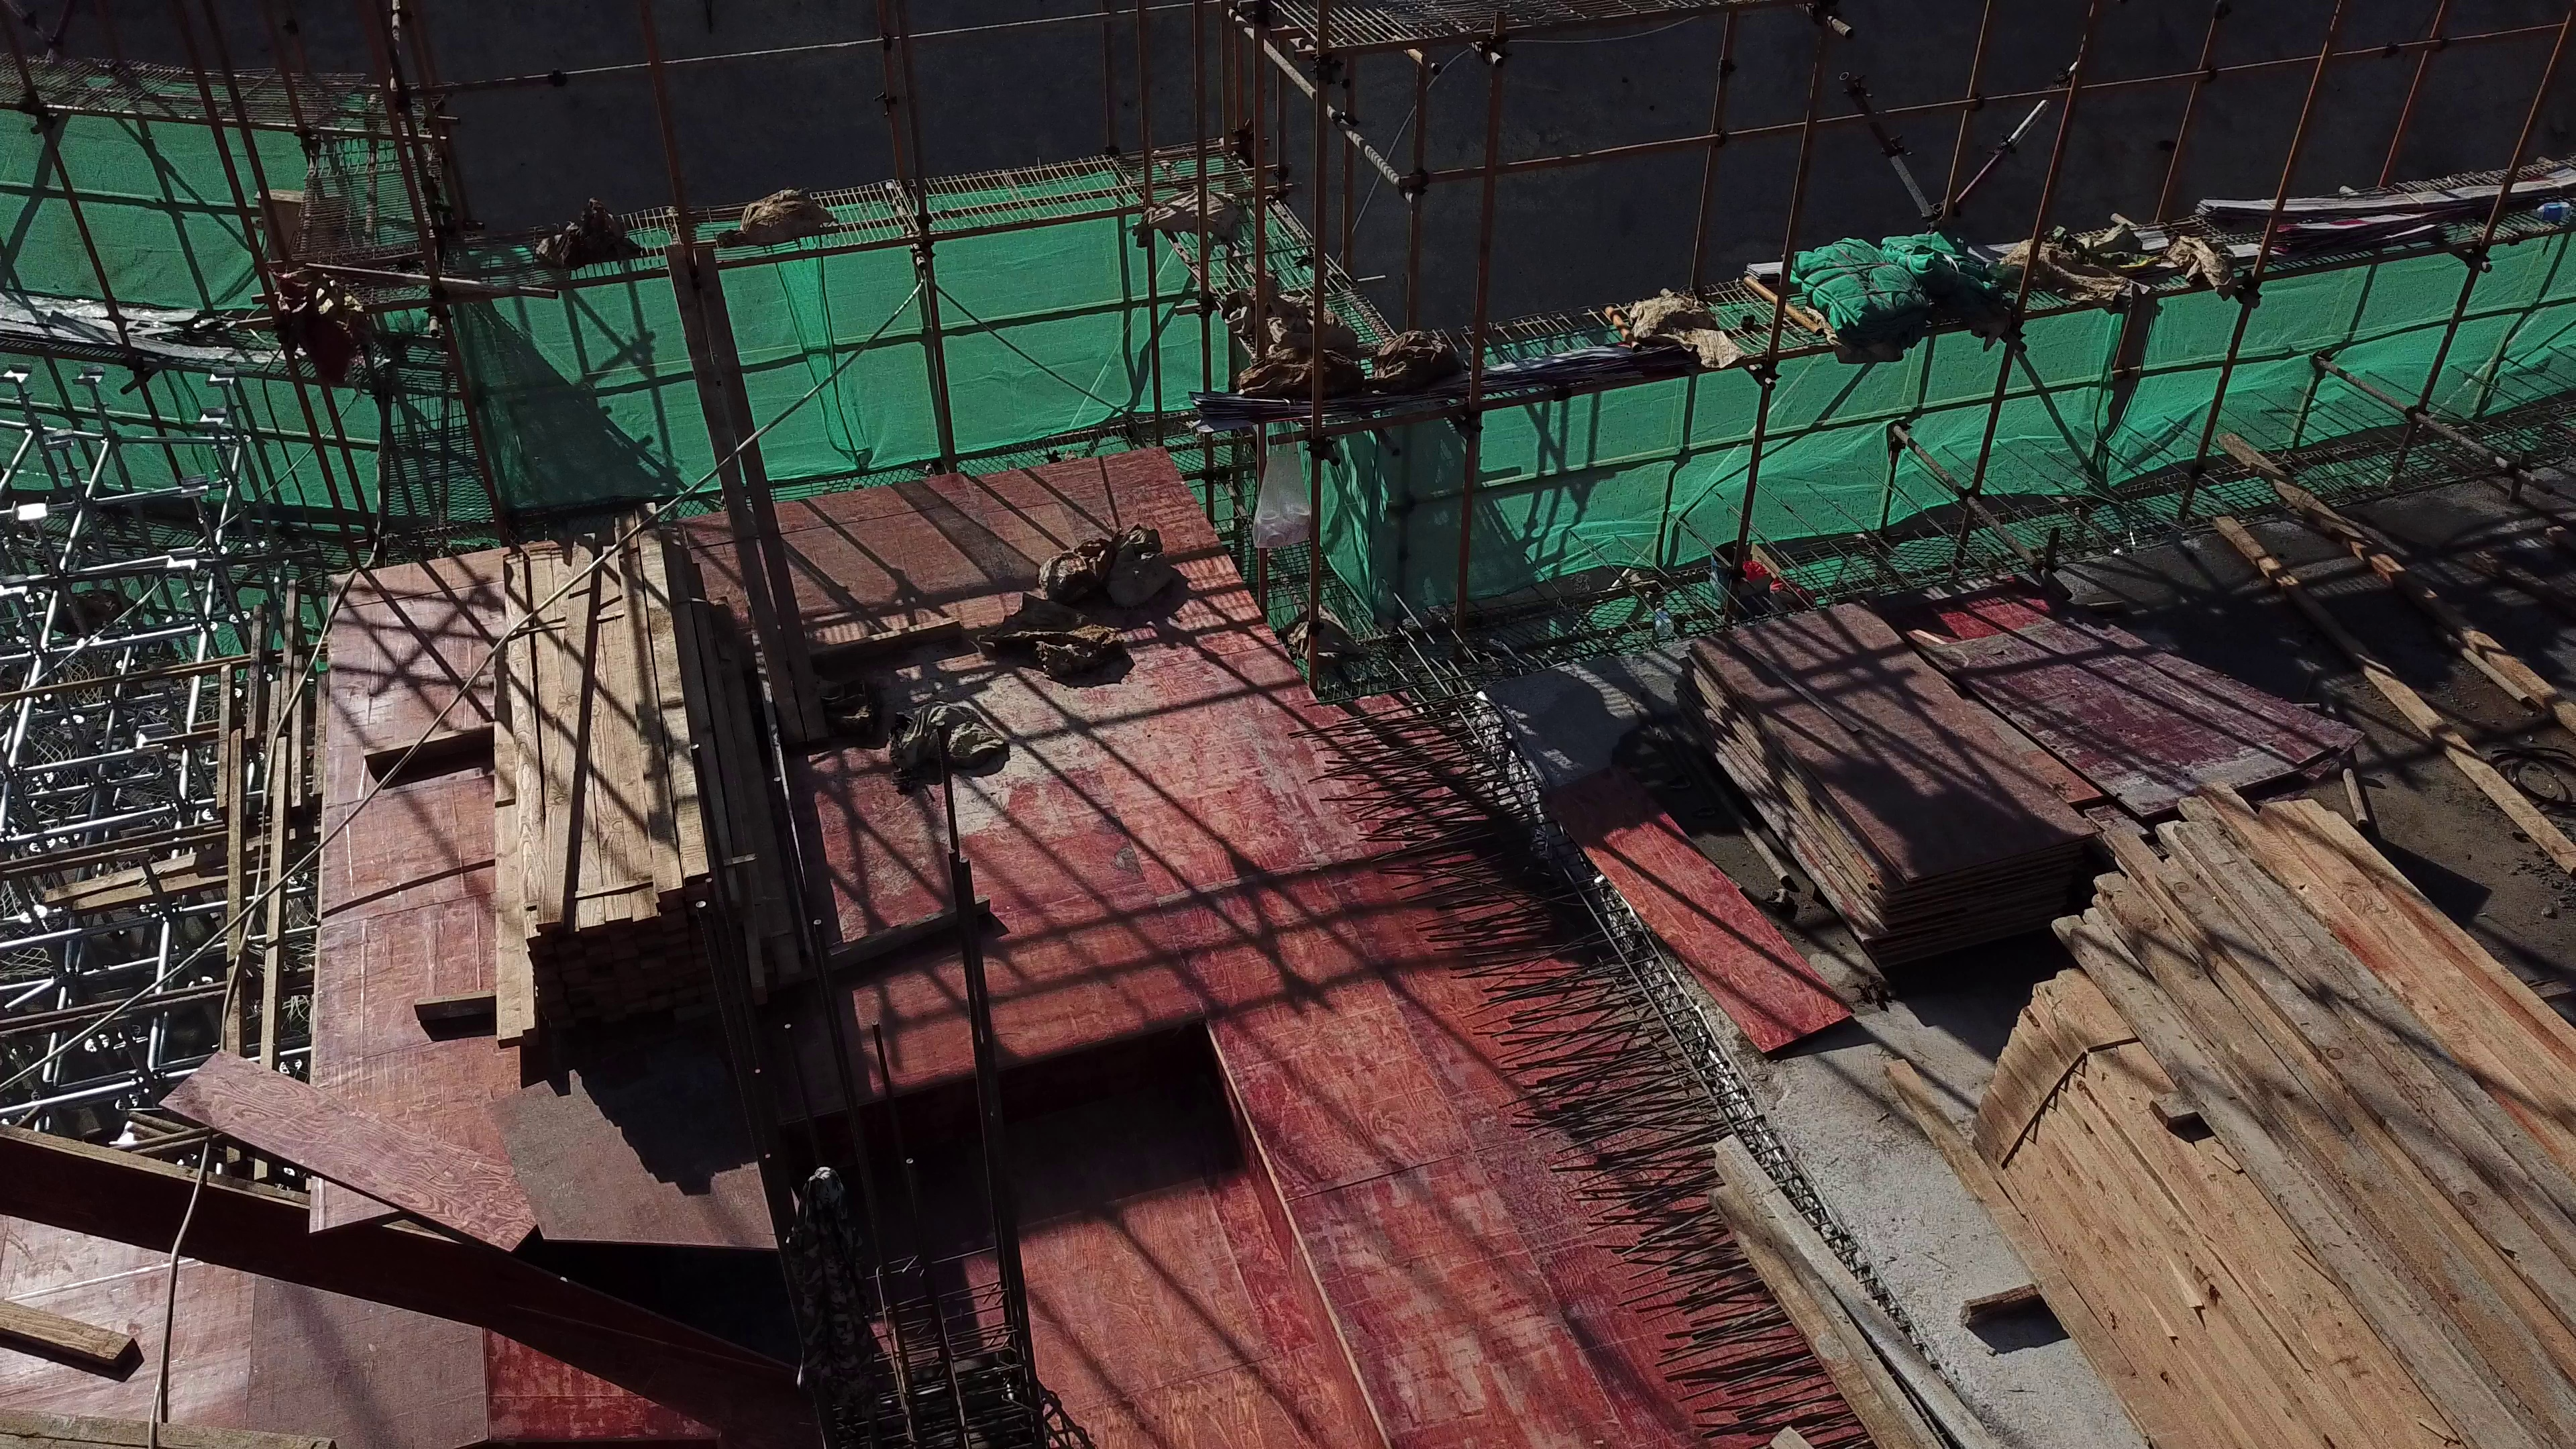board: (1670, 600, 2097, 966)
wood: (1992, 784, 2572, 1449), (497, 511, 796, 1040)
